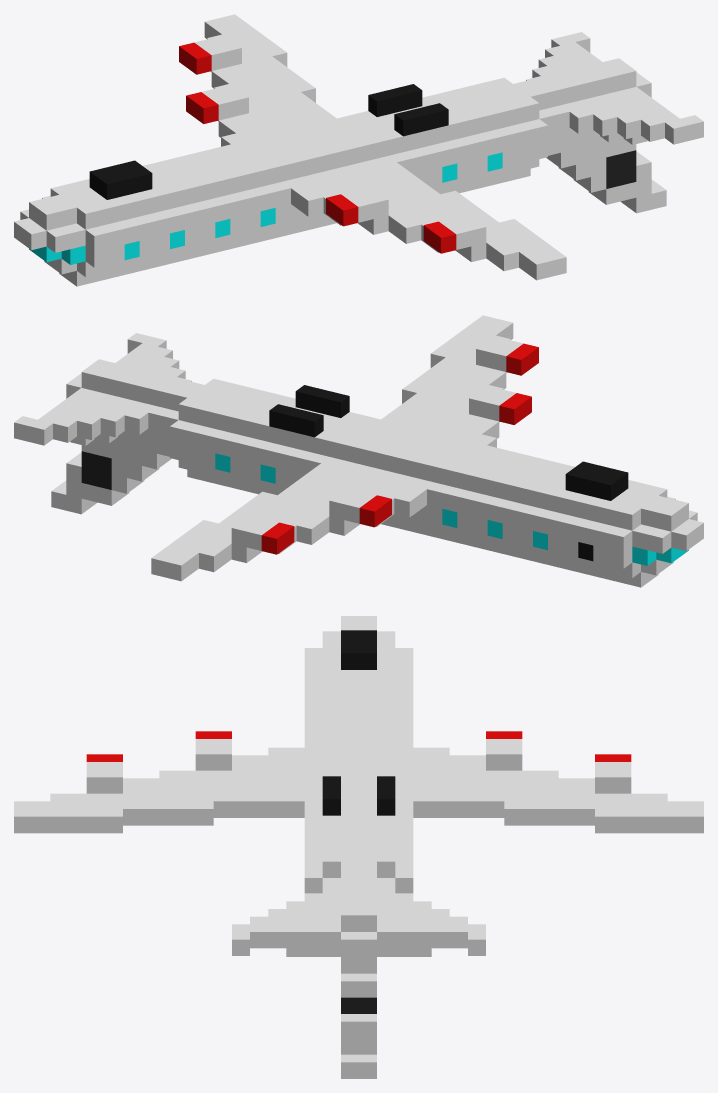
File: 飛行機.obj
3 views of the same model, one above another, from view 1: azimuth 30°, elevation 25°; view 2: azimuth 150°, elevation 25°; view 3: azimuth 270°, elevation 25° (orthographic). The views are drawn at different scales.
Size of the model in its own units: 4.2 by 1 by 3.8.
Materials: 1 (1 with a texture image).
